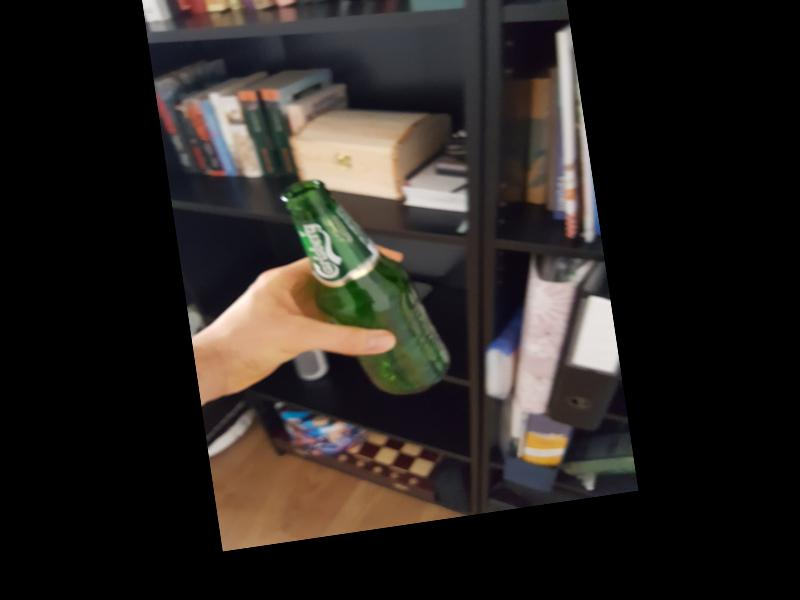Beer: (282, 163, 457, 408)
